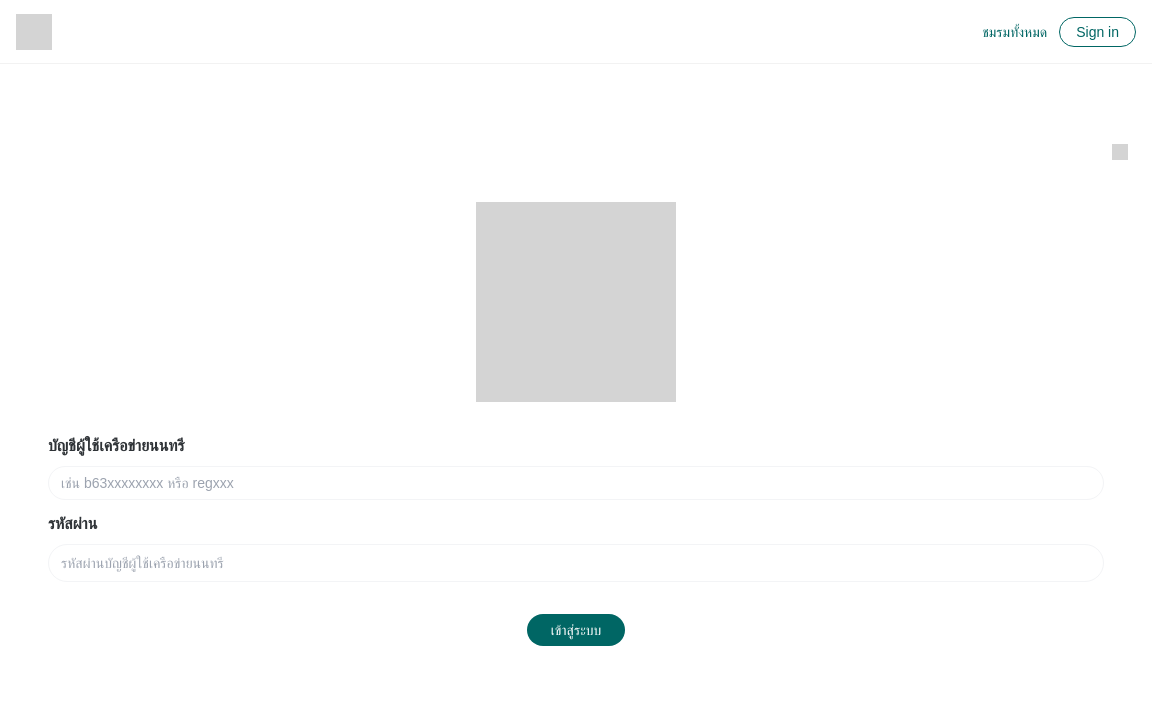
it: Authentication Test › User failed to login with incorrect credentials
Step 1. Type "incorrect_username" into the field with test id "username-input" → (576, 483), box [48,466,1104,500]
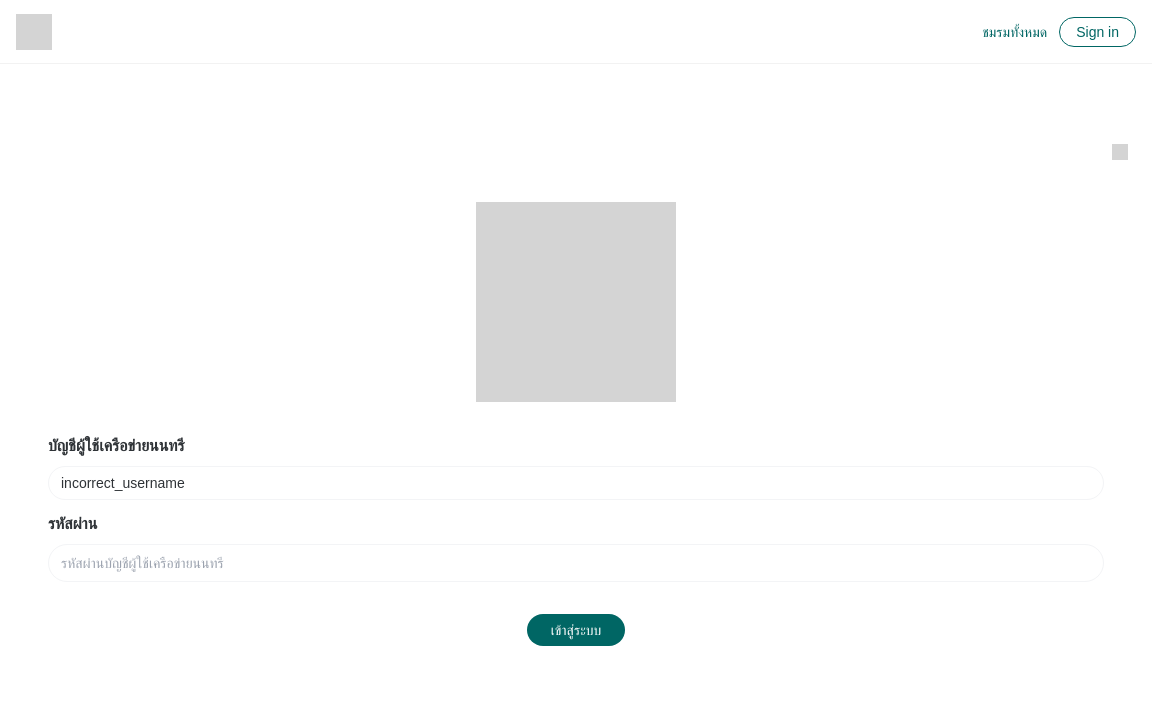
Step 2. Type "incorrect_password" into the password field with test id "password-input" → (576, 563), box [48,544,1104,582]
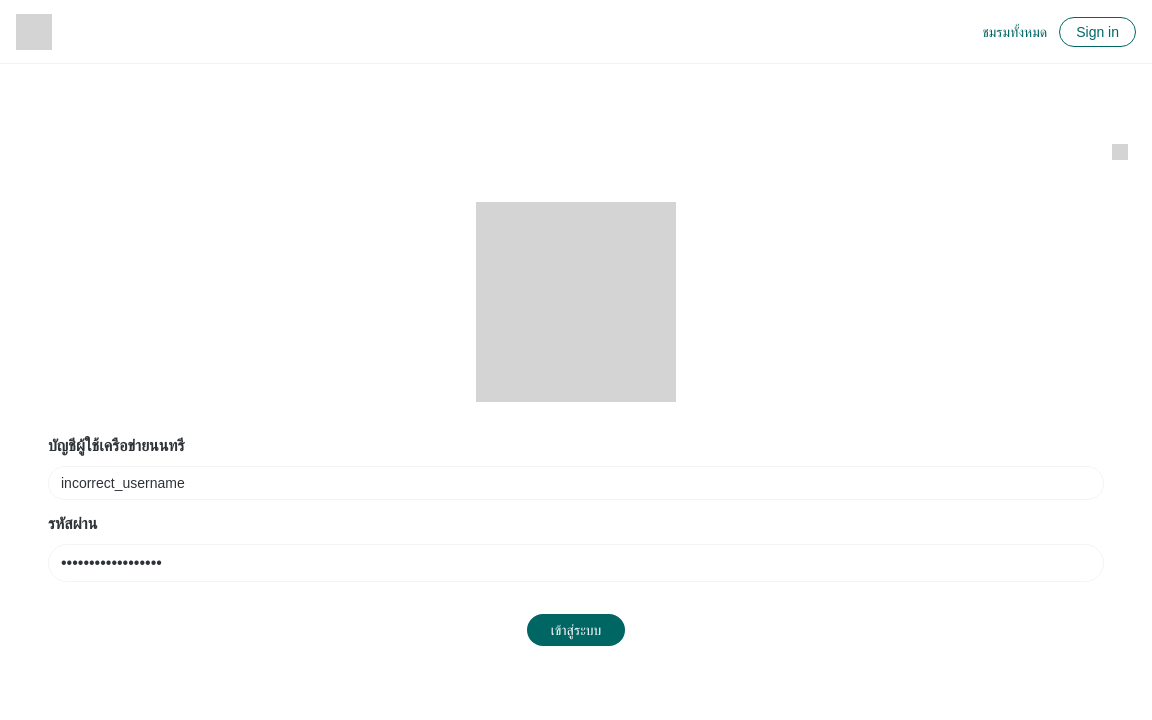
Step 3. Click the button "เข้าสู่ระบบ" → (577, 630), box [527,614,626,646]
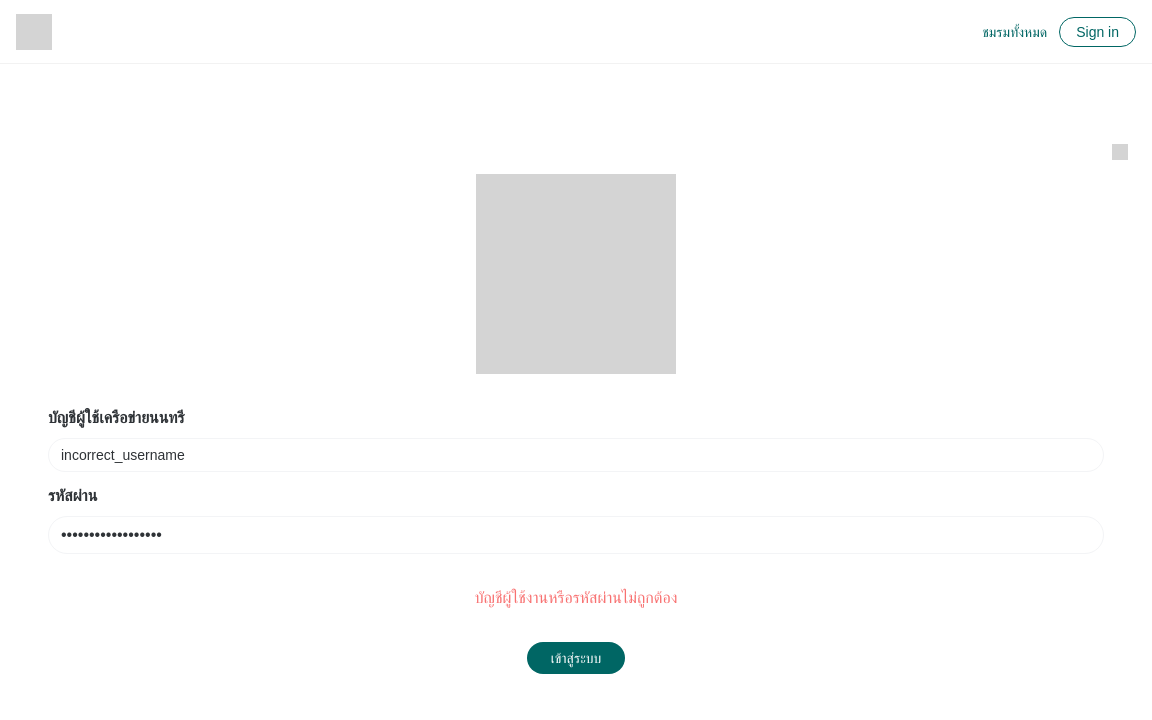
Now the text "บัญชีผู้ใช้งานหรือรหัสผ่านไม่ถูกต้อง" is shown, box [475,586,677,610]
